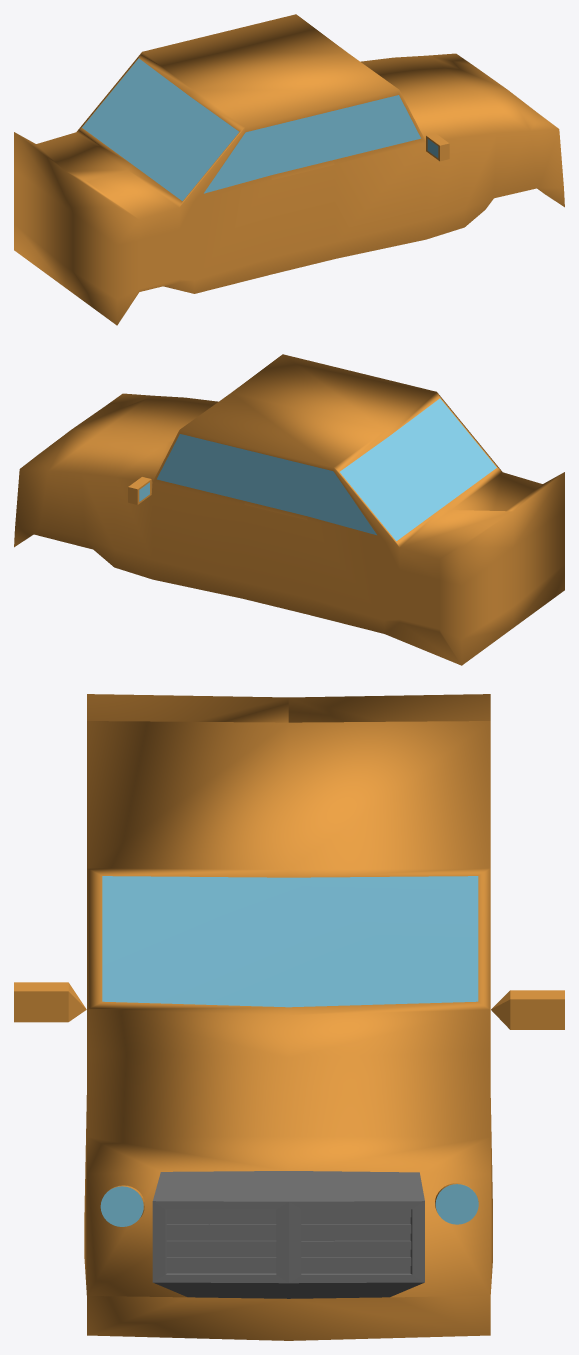
File: hassu_lada.fbx
3 renders of one model, top to bottom at view 1: azimuth 30°, elevation 25°; view 2: azimuth 150°, elevation 25°; view 3: azimuth 270°, elevation 25°, orthographic. The views are drawn at different scales.
Parts seen in each view (by area): view 1: Cylinder.008; view 2: Cylinder.008; view 3: Cylinder.008.
Boxes of the visible parts, box(x1,y1,x2,y2) form: Cylinder.008: box(14, 14, 564, 325); Cylinder.008: box(14, 354, 564, 665); Cylinder.008: box(14, 694, 564, 1340).
Bounding box in the file's own units: 1757 × 947 × 620.
